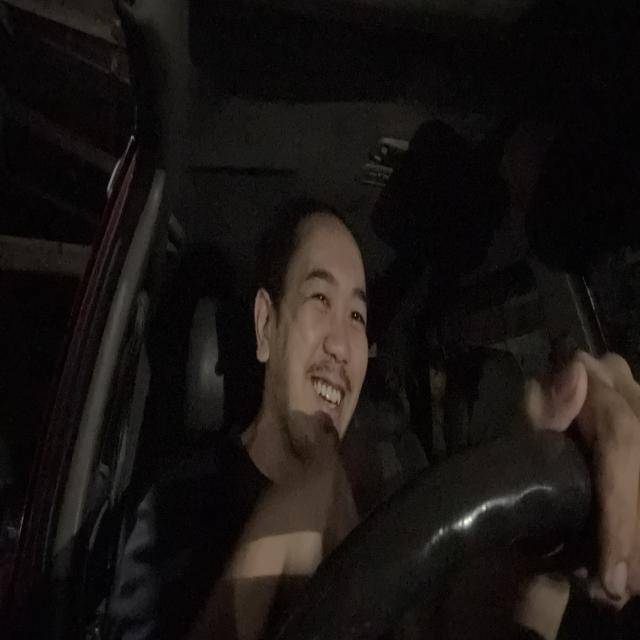open: (296, 265, 337, 318), (347, 286, 371, 340)
